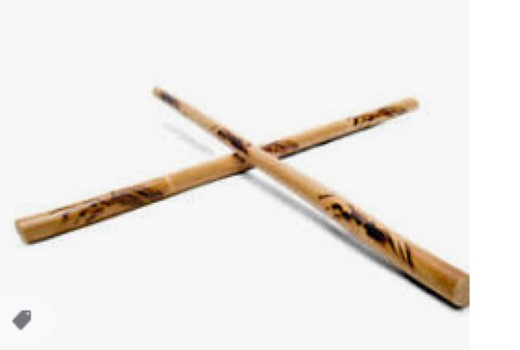baston_e: (62, 99, 384, 239), (165, 110, 456, 264)
baston_v: (438, 250, 477, 315), (7, 206, 58, 251), (400, 91, 425, 114), (145, 80, 165, 101)
